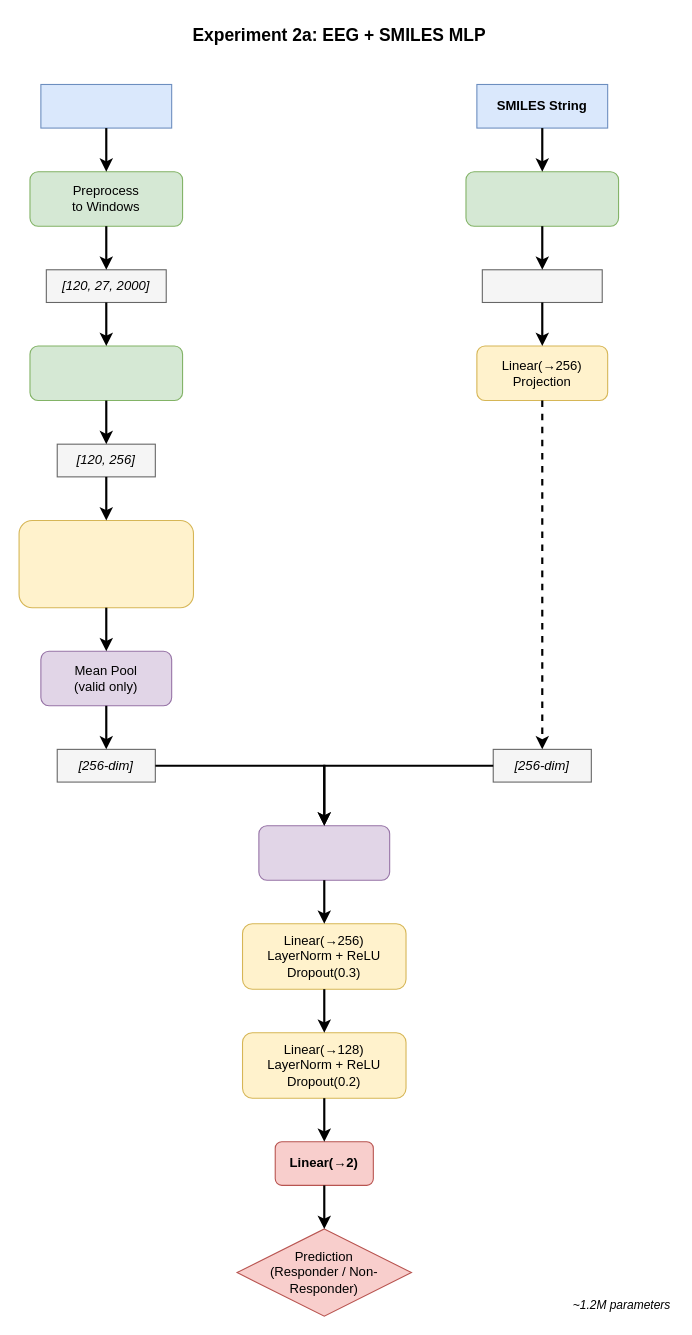
Image size: 692x1335. Some labels were removed from this diagram. The shapes that lost their labels are listed below. From the top down, each one's centre as x and y in pixels, then its label:
the point at 106,105: EEG Recording
the point at 542,198: ChemBERTa or SMILES-Trf
the point at 541,285: [768 or 256-dim]
the point at 106,373: SimpleCNN Encoder (per window)
the point at 105,563: Transformer Encoder (2 layers, 4 heads) + Positional Embed + key_padding_mask
the point at 324,852: Concatenate (512-dim)
